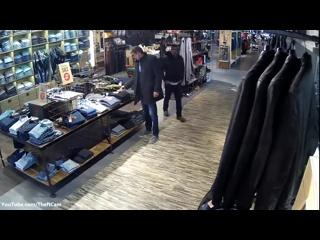Normal: (119, 46, 164, 144), (160, 42, 187, 122)
